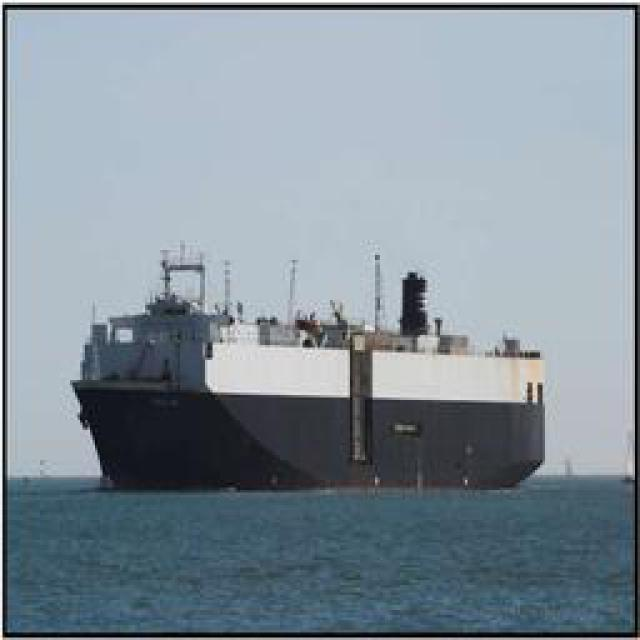Ship: (74, 250, 554, 493)
